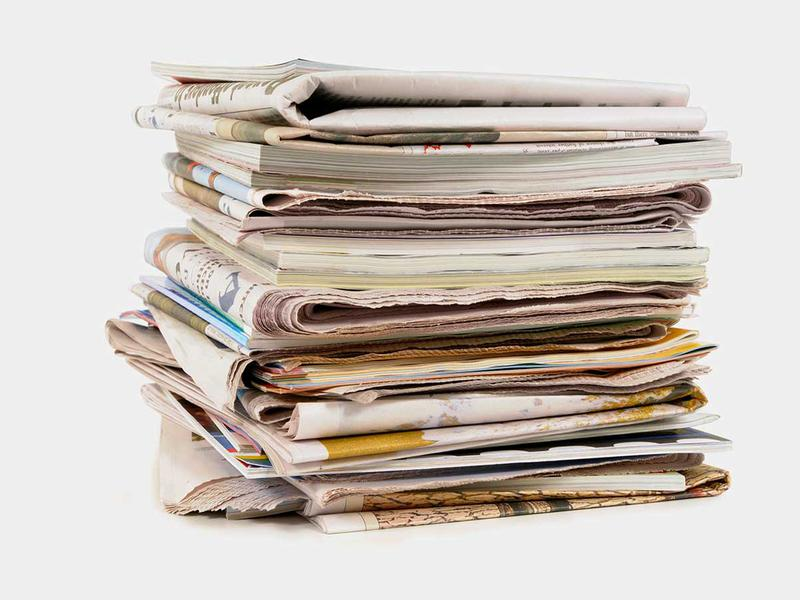paper: (104, 54, 747, 536)
